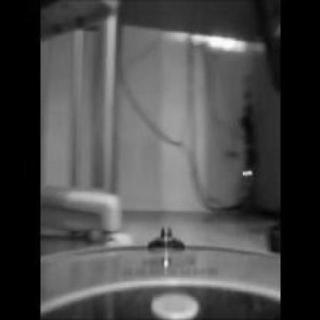other: (220, 156, 261, 184)
